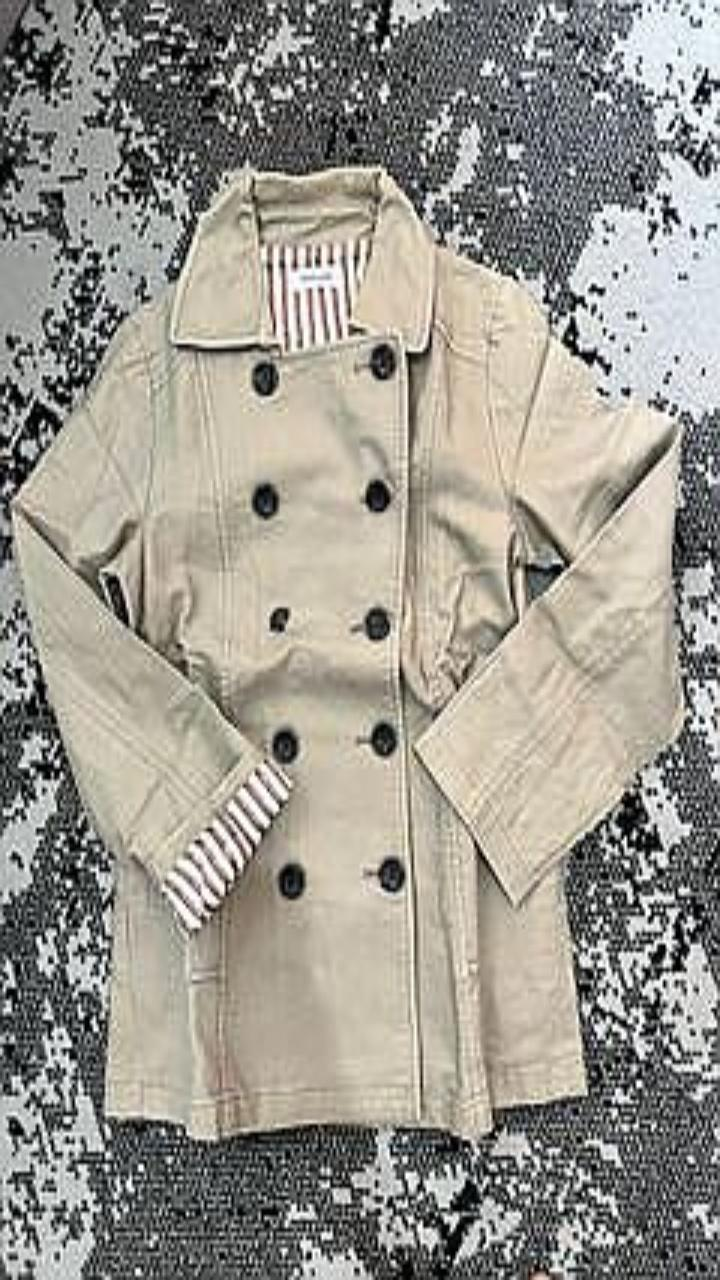Coat: (11, 164, 684, 1138)
